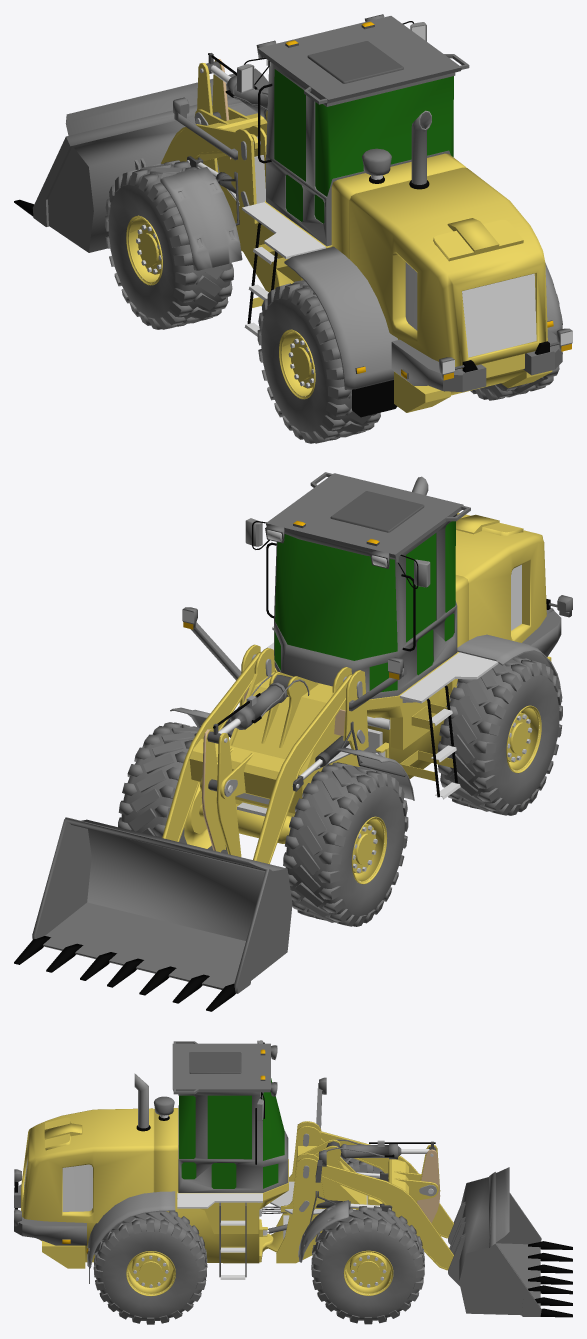
File: escavadeira.glb
3 views of the same model, one above another, from view 1: azimuth 30°, elevation 25°; view 2: azimuth 150°, elevation 25°; view 3: azimuth 270°, elevation 25° (orthographic). The views are drawn at different scales.
Visible parts, largest first — view 1: $$$DUMMY#42, $$$DUMMY#38, Grupo#5.001, Grupo#5.002, G-__555663, Componente#11, G-__555609, G-__555627, Grupo#5.003; view 2: $$$DUMMY#42, $$$DUMMY#38, Grupo#5.001, Grupo#5.002, Grupo#5, G-__555609, G-__555627, Componente#11, G-__555600, G-__555573; view 3: $$$DUMMY#42, Grupo#5, Grupo#5.003, $$$DUMMY#38, G-__555645, G-__555591, Componente#11, G-__555663.
Part boxes in pixels (x1,y1,x2,y2): $$$DUMMY#42: (14,14,572,417); $$$DUMMY#38: (274,69,453,223); Grupo#5.001: (105,160,233,329); Grupo#5.002: (257,280,380,443); G-__555663: (405,262,536,357); Componente#11: (197,21,572,380); G-__555609: (126,215,162,285); G-__555627: (279,329,315,399); Grupo#5.003: (470,284,562,400); $$$DUMMY#42: (14,472,572,1011); $$$DUMMY#38: (274,521,455,692); Grupo#5.001: (283,762,408,926); Grupo#5.002: (437,656,562,815); Grupo#5: (118,722,226,850); G-__555609: (351,816,387,884); G-__555627: (506,705,541,773); Componente#11: (182,476,428,779); G-__555600: (184,782,211,848); G-__555573: (199,804,291,843); $$$DUMMY#42: (14,1040,572,1317); Grupo#5: (311,1206,424,1324); Grupo#5.003: (93,1211,207,1324); $$$DUMMY#38: (179,1078,284,1188); G-__555645: (126,1251,175,1296); G-__555591: (343,1250,393,1295); Componente#11: (62,1048,429,1253); G-__555663: (24,1159,92,1211).
Size of the model in its own units: 0.2598 by 0.3407 by 0.7707.
